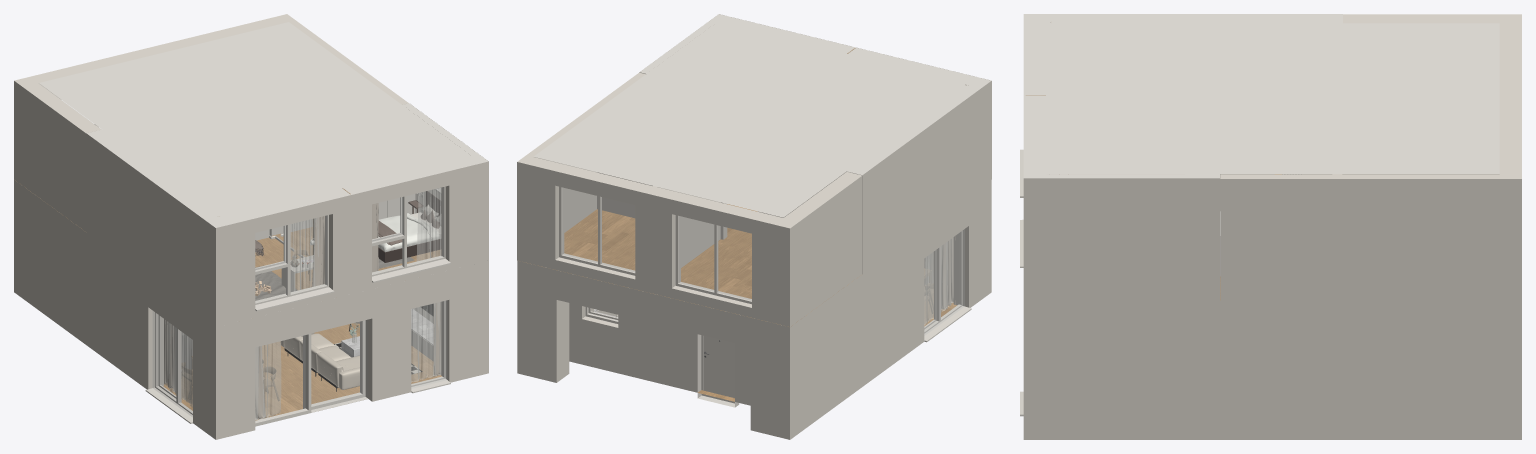
The model's file is wnetrze-SZEREG-v5.glb.
3 views of the same model, side by side, from view 1: azimuth 30°, elevation 25°; view 2: azimuth 150°, elevation 25°; view 3: azimuth 270°, elevation 25° (orthographic). The views are drawn at different scales.
Visible parts, largest first — view 1: KOND_1__SUFIT, KOND_1__SCIANY, KOND_0__SCIANY, KOND_0__OKNA, KOND_1__OKNA, KOND_0__WYPOSAZENIE, KOND_1__WYPOSAZENIE, KOND_0__PODLOGA, KOND_1__PODLOGA; view 2: KOND_1__SUFIT, KOND_0__SCIANY, KOND_1__SCIANY, KOND_1__OKNA, KOND_1__PODLOGA, KOND_0__OKNA, KOND_0__WYPOSAZENIE; view 3: KOND_1__SUFIT, KOND_0__SCIANY, KOND_1__SCIANY.
Part boxes in pixels (x1,y1,x2,y2): KOND_1__SUFIT: (39, 22, 488, 227); KOND_1__SCIANY: (14, 14, 488, 326); KOND_0__SCIANY: (14, 179, 488, 439); KOND_0__OKNA: (145, 300, 450, 426); KOND_1__OKNA: (94, 124, 450, 311); KOND_0__WYPOSAZENIE: (164, 302, 441, 419); KOND_1__WYPOSAZENIE: (255, 187, 441, 300); KOND_0__PODLOGA: (163, 323, 441, 420); KOND_1__PODLOGA: (15, 180, 440, 290); KOND_1__SUFIT: (534, 14, 991, 217); KOND_0__SCIANY: (517, 180, 991, 439); KOND_1__SCIANY: (517, 48, 991, 326); KOND_1__OKNA: (559, 186, 751, 304); KOND_1__PODLOGA: (526, 204, 852, 326); KOND_0__OKNA: (924, 229, 971, 342); KOND_0__WYPOSAZENIE: (588, 236, 955, 357); KOND_1__SUFIT: (1023, 14, 1499, 178); KOND_0__SCIANY: (1023, 300, 1521, 439); KOND_1__SCIANY: (1023, 14, 1521, 300).
Bounding box in the file's own units: 7.57 × 5.71 × 9.67.
Materials: 121 (43 with a texture image).
